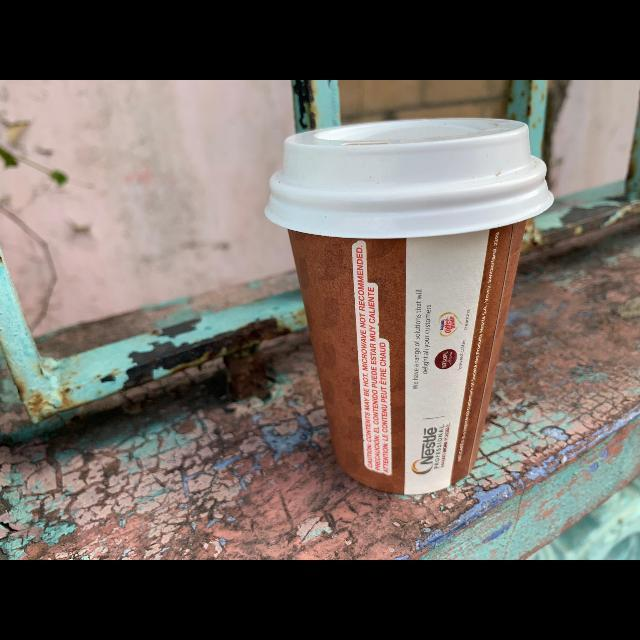Cardboard: (291, 225, 525, 500)
Plastic: (265, 118, 553, 238)
